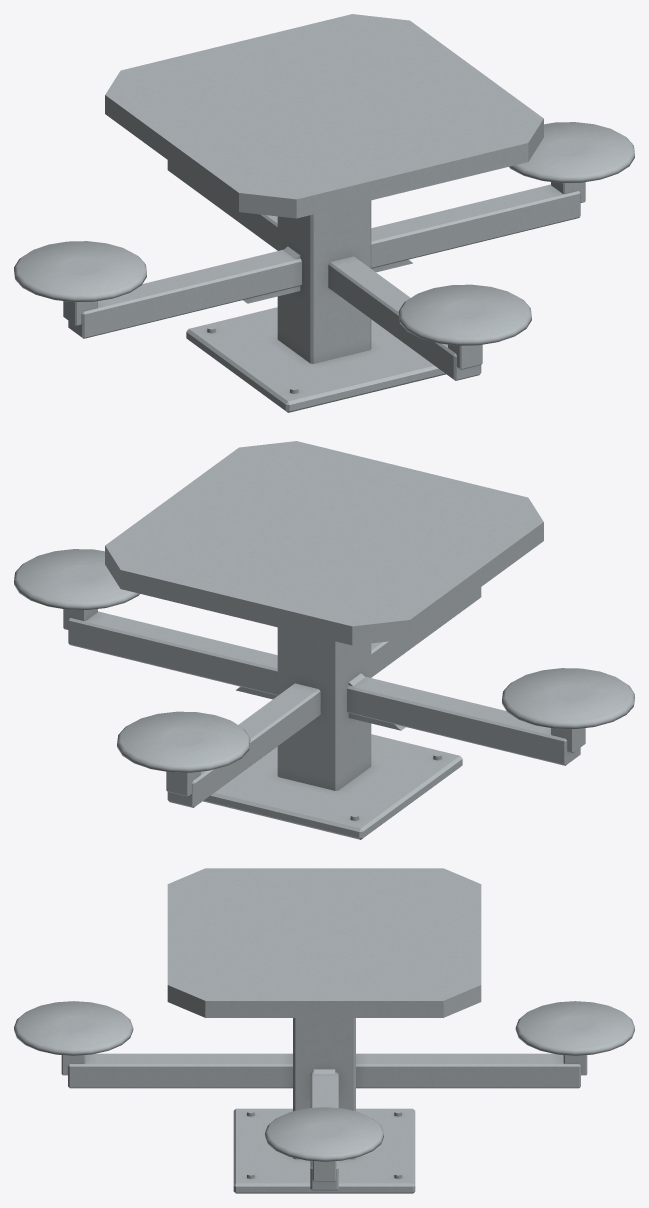
Rendered from prison_mess_table.glb.
3 renders of one model, top to bottom at view 1: azimuth 30°, elevation 25°; view 2: azimuth 150°, elevation 25°; view 3: azimuth 270°, elevation 25°, orthographic. The views are drawn at different scales.
Parts seen in each view (by area): view 1: prison_mess_table_Body; view 2: prison_mess_table_Body; view 3: prison_mess_table_Body.
Boxes of the visible parts, box(x1,y1,x2,y2) form: prison_mess_table_Body: box(14, 14, 634, 412); prison_mess_table_Body: box(14, 441, 634, 839); prison_mess_table_Body: box(14, 868, 634, 1193).
Size of the model in its own units: 1.98 by 0.78 by 1.98.
1 material, 1 textured.
